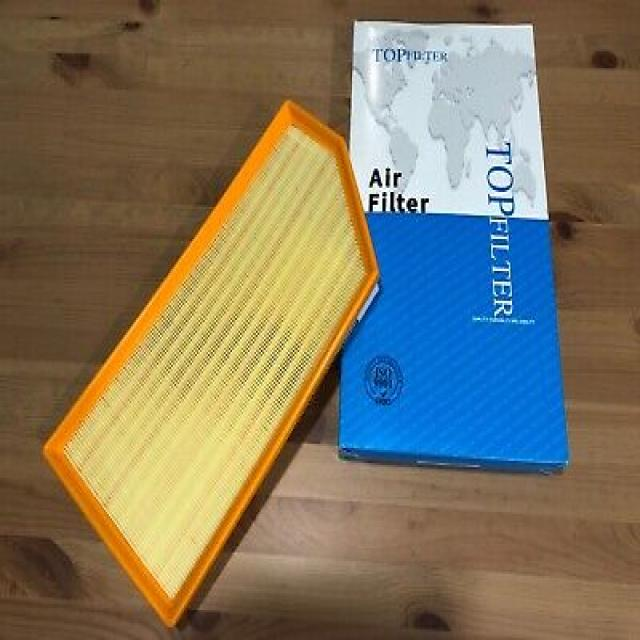air_filter: (38, 94, 385, 635)
